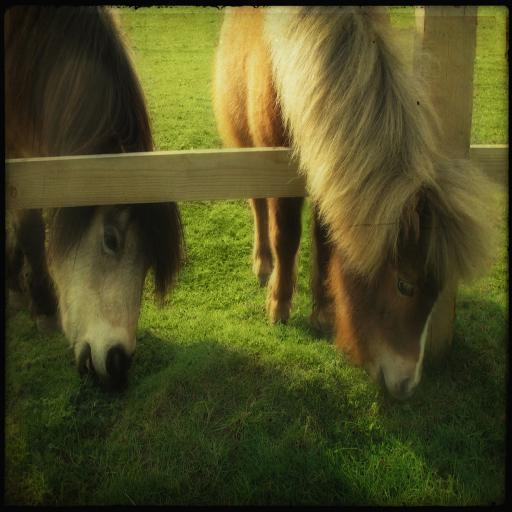horse: (210, 2, 498, 407), (2, 2, 189, 381)
